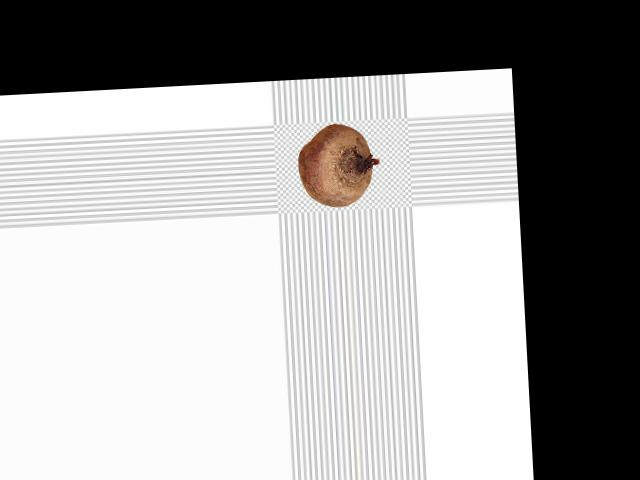beet: (296, 122, 382, 208)
